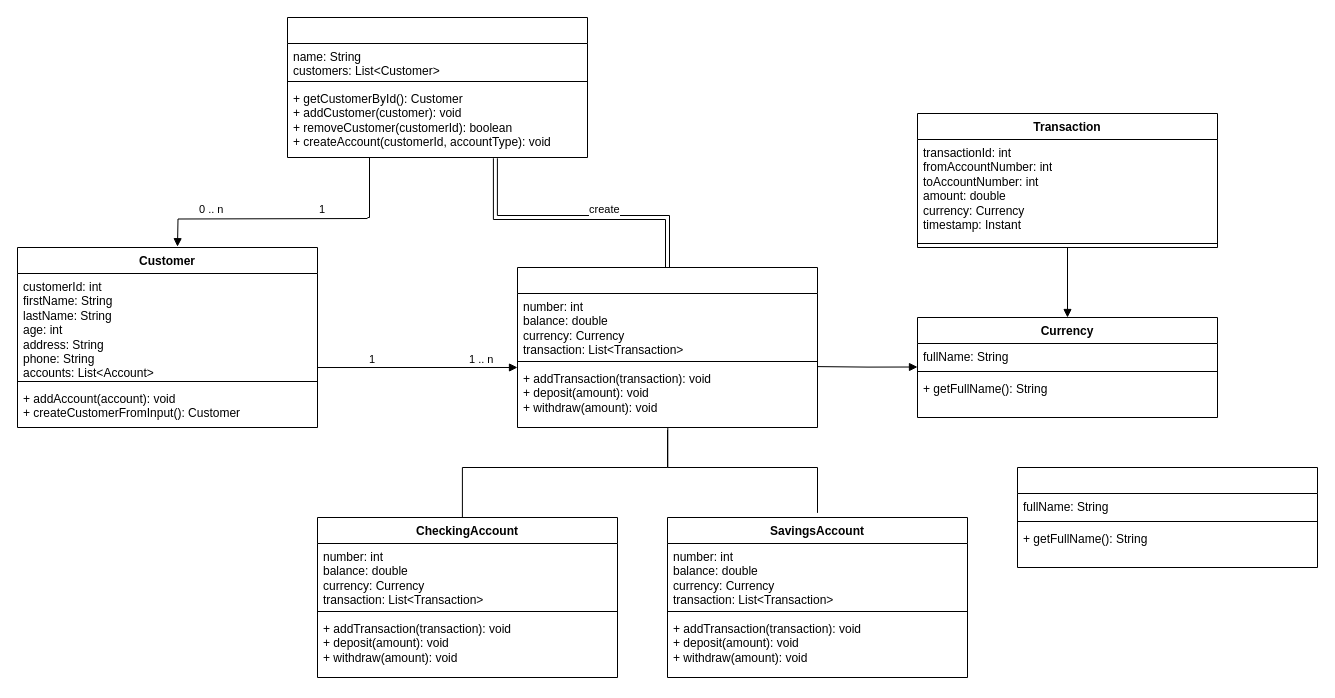
Some shapes in this 1335 by 698 pixel diagram are drawn without their labels. Each missing label, with the box of its shape:
Account: (516, 266, 818, 428)
Bank: (286, 16, 588, 158)
Exchange Rate: (1016, 466, 1318, 568)
